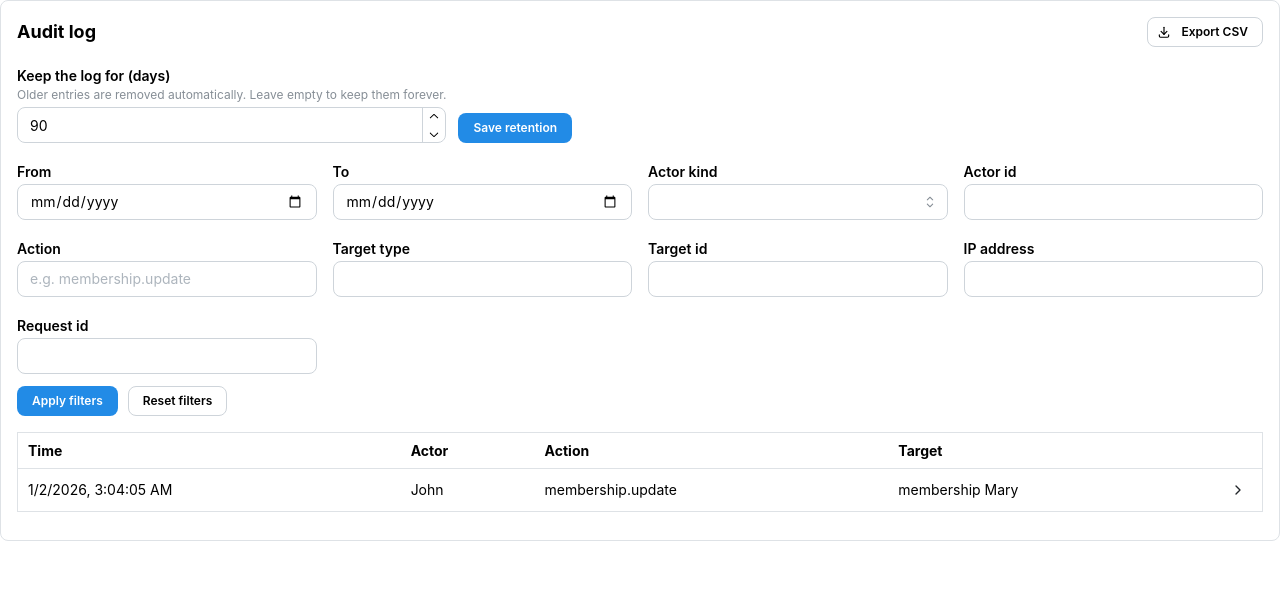
Test case: expands an entry to its before/after diff
This screenshot has width=1280, height=596.
Click the button named "Show changes".
click(1238, 490)  # box [1224, 476, 1252, 504]
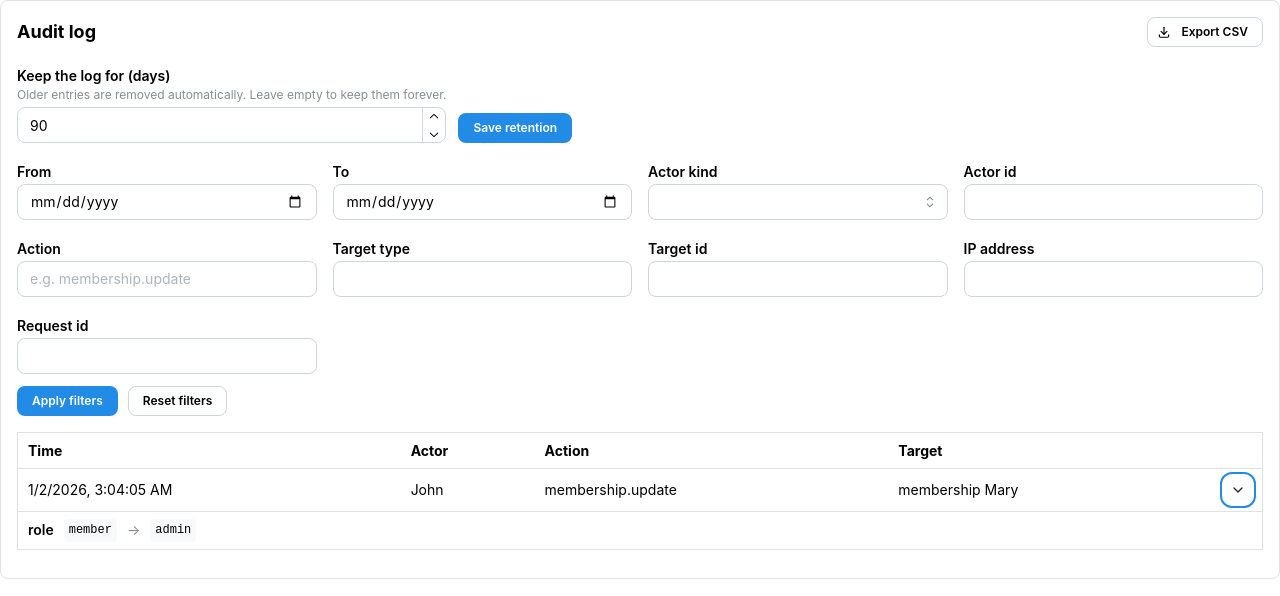
Expected: the text "role" is shown, [28, 520, 54, 541]
Expected: the text "member" is shown, [64, 519, 117, 542]
Expected: the text "admin" is shown, [150, 519, 196, 542]
